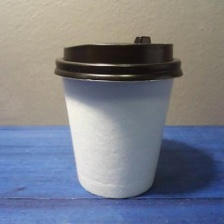paper_cup: (49, 28, 186, 201)
